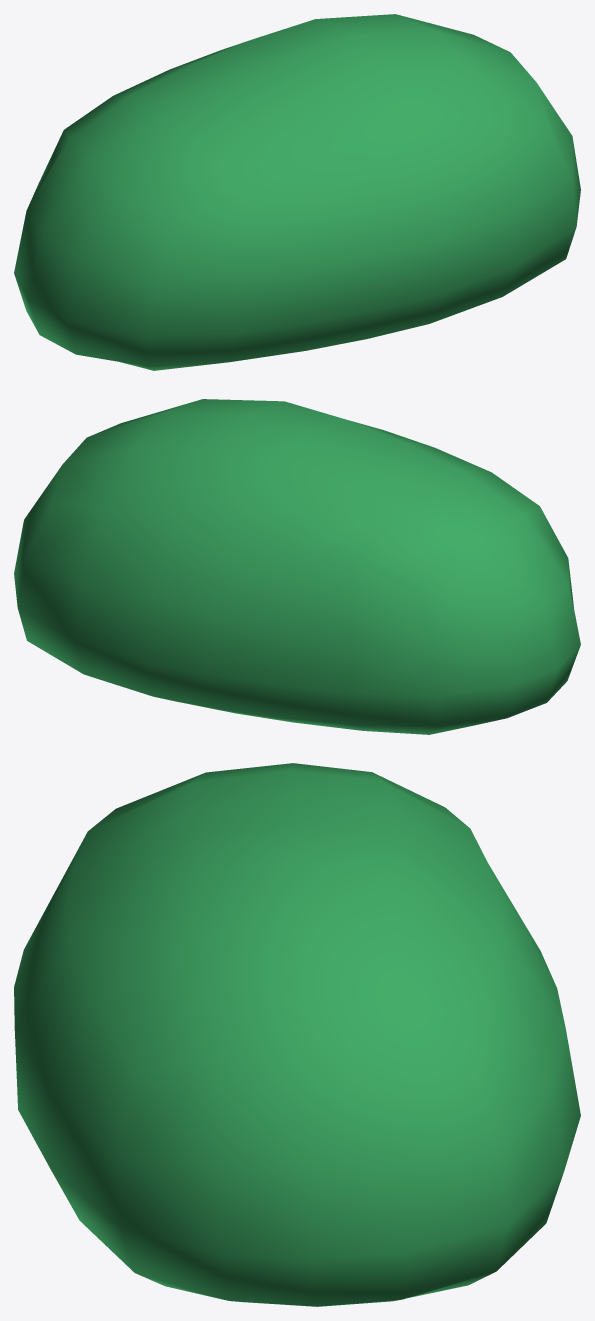
The model's file is Bush_D_03_LOD2.gltf.
3 renders of one model, top to bottom at view 1: azimuth 30°, elevation 25°; view 2: azimuth 150°, elevation 25°; view 3: azimuth 270°, elevation 25°, orthographic. The views are drawn at different scales.
Visible parts, largest first — view 1: Bush_D_03_LOD2_Cube.655; view 2: Bush_D_03_LOD2_Cube.655; view 3: Bush_D_03_LOD2_Cube.655.
Boxes of the visible parts, x1=… form: Bush_D_03_LOD2_Cube.655: x1=14, y1=14, x2=580, y2=370; Bush_D_03_LOD2_Cube.655: x1=14, y1=399, x2=580, y2=734; Bush_D_03_LOD2_Cube.655: x1=14, y1=763, x2=580, y2=1306.
Size of the model in its own units: 6.72 by 3.01 by 4.41.
1 material, 1 textured.
